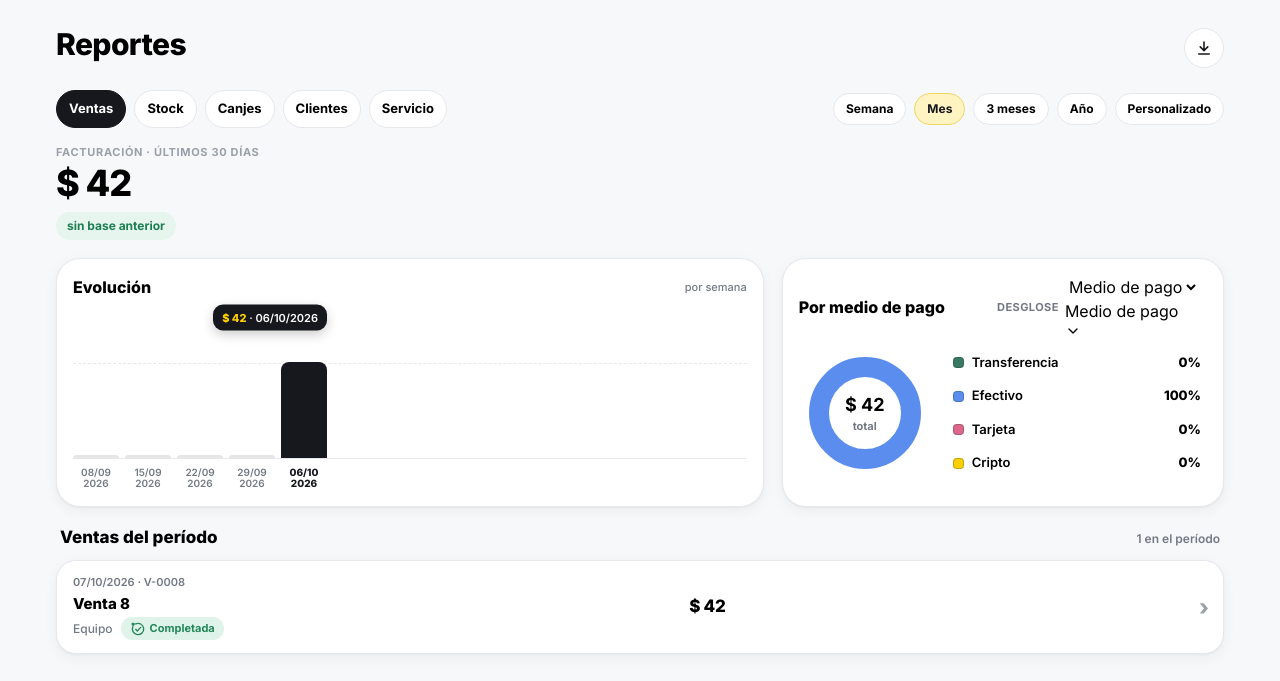
Test: Reports custom period › keeps calendar selections as drafts until the period is applied
Click the button "Personalizado".
click(1169, 109)  # box [1114,93,1224,125]
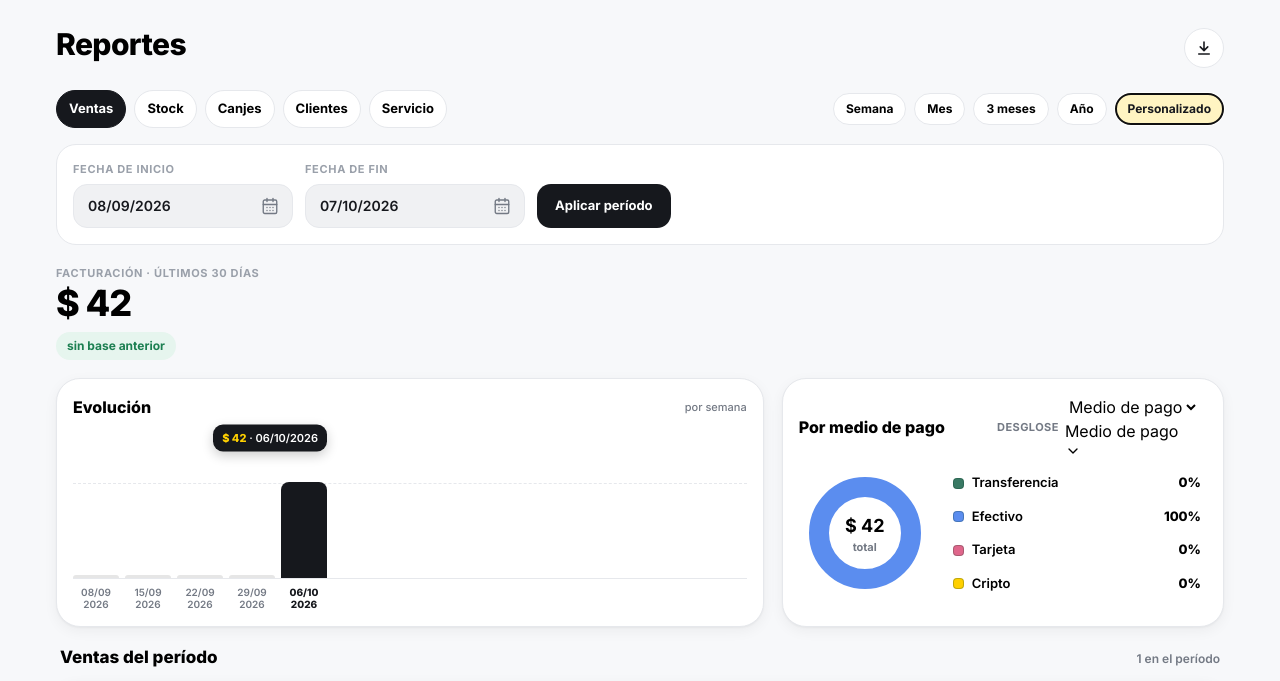
Click the button named "Abrir calendario: fecha de inicio".
click(270, 206)  # box [254,190,286,222]
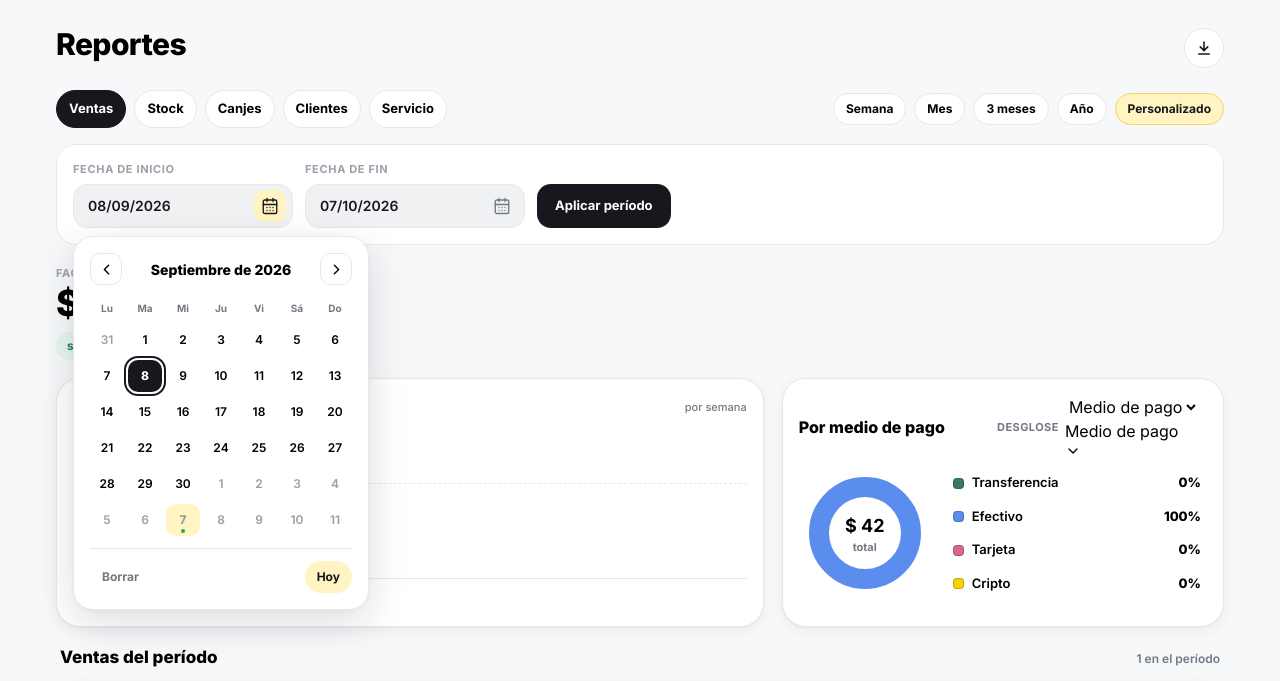
Click the button "Hoy".
click(328, 576)  # box [305,560,352,592]
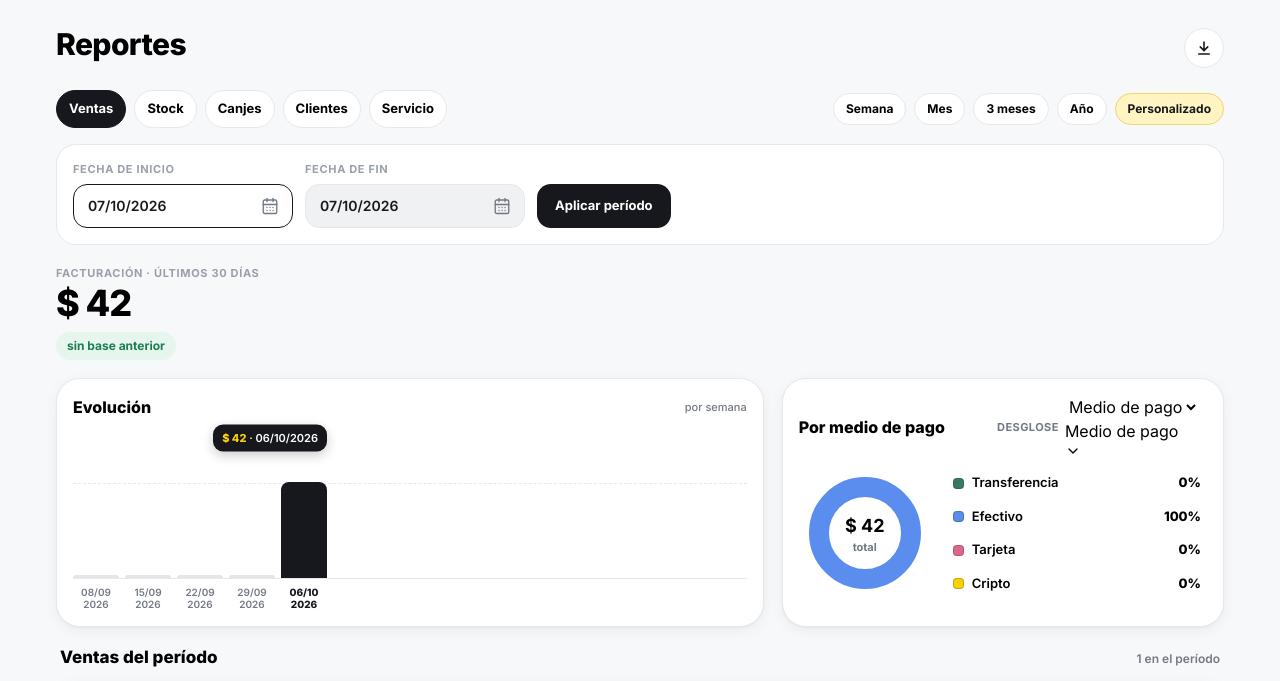
Check: the text "Facturación · últimos 30 días" is shown, box [56,266,260,280]
Check: the field labelled "Fecha de inicio" holds "07/10/2026", box [73,184,293,228]
Click the button "Aplicar período".
click(604, 206)  # box [537,184,671,228]
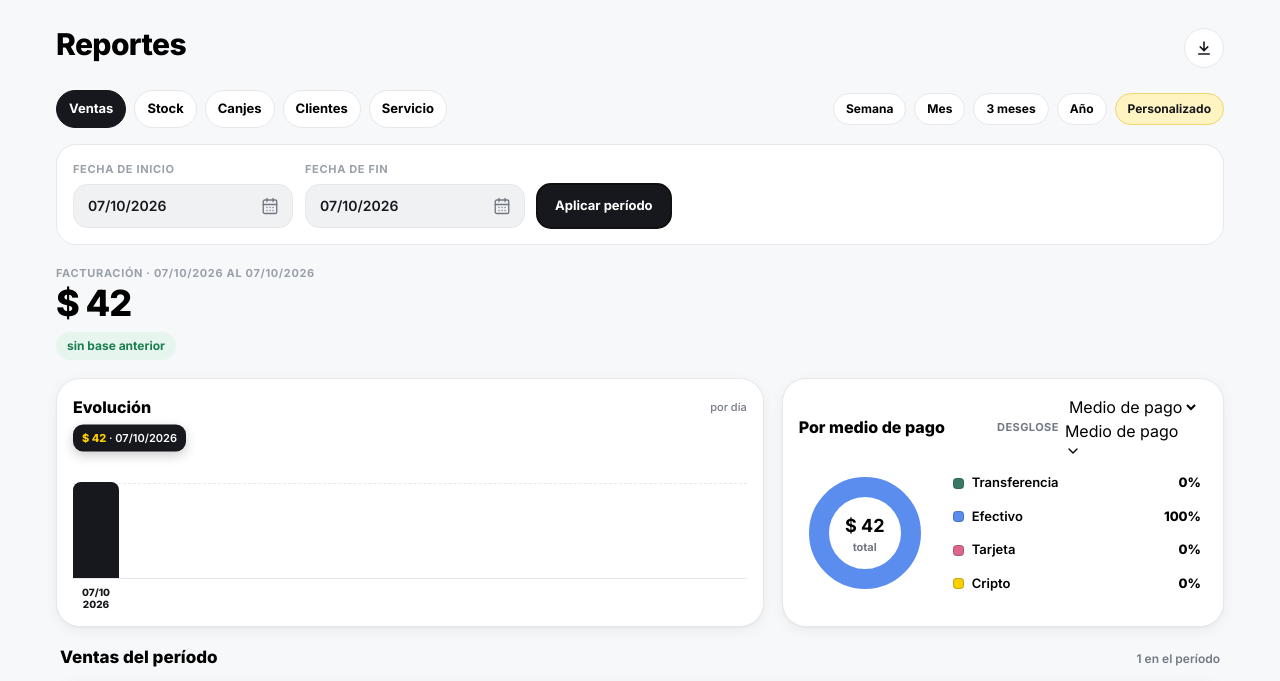
Check: the text "Facturación · 07/10/2026 al 07/10/2026" is shown, box [56,266,315,280]
